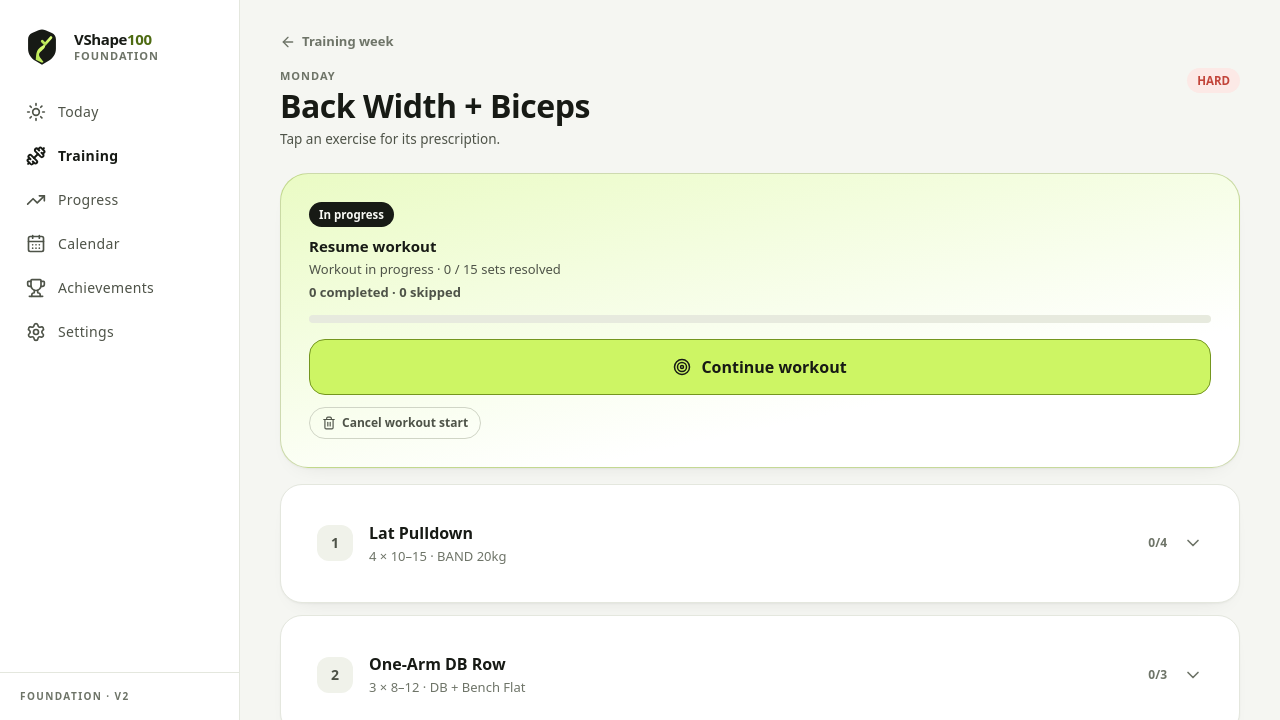
Test: 2. entering focused mode is a read › goes back to the overview without writing either
The width and height of the screenshot is (1280, 720).
Expected: the heading "Back Width + Biceps" is shown, [280,88,590,125]
Click the button "Continue workout": {"x": 760, "y": 367} [309,339,1211,395]
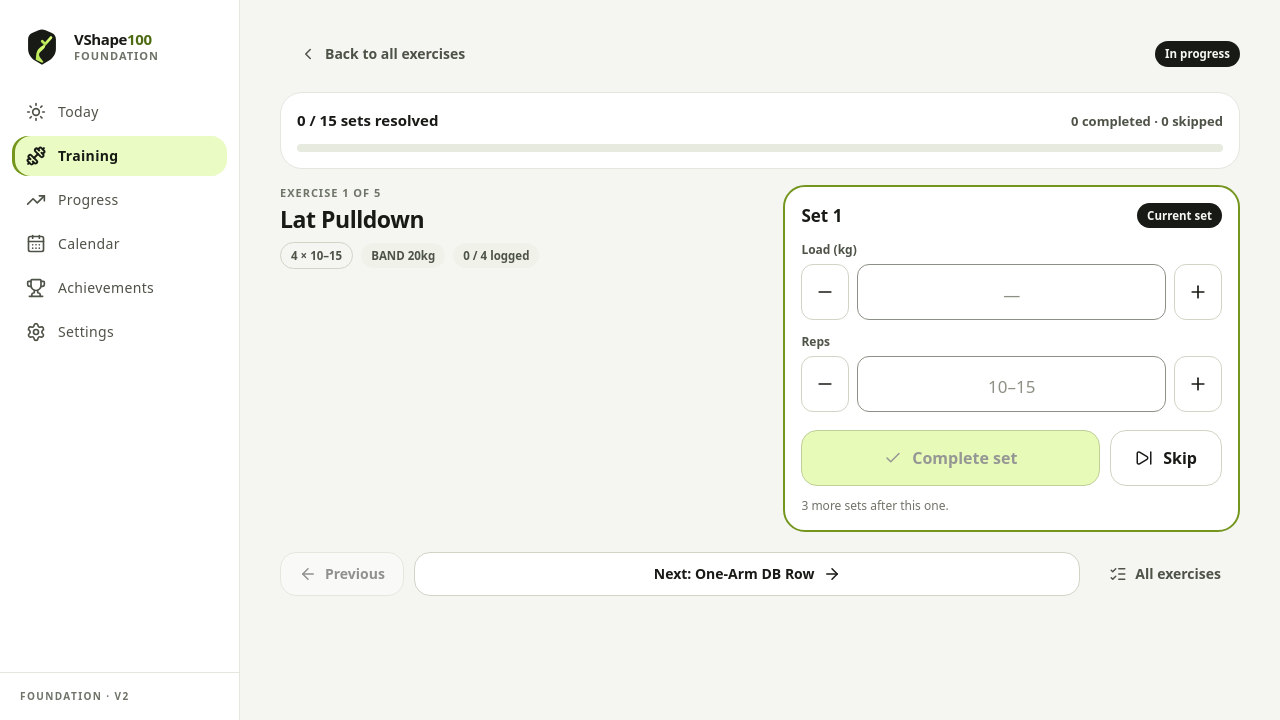
Click the button "Back to all exercises": {"x": 382, "y": 54} [280,32,484,76]
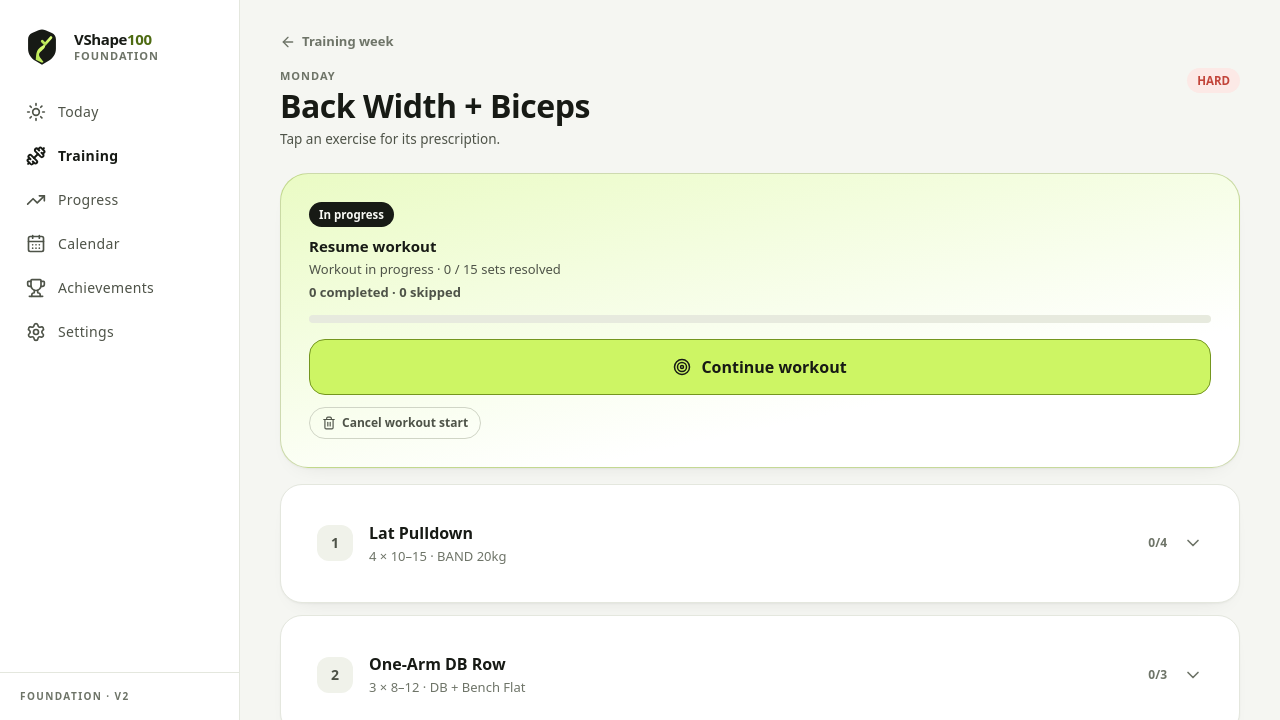
Expected: the text "Resume workout" is shown, [309,236,436,256]
